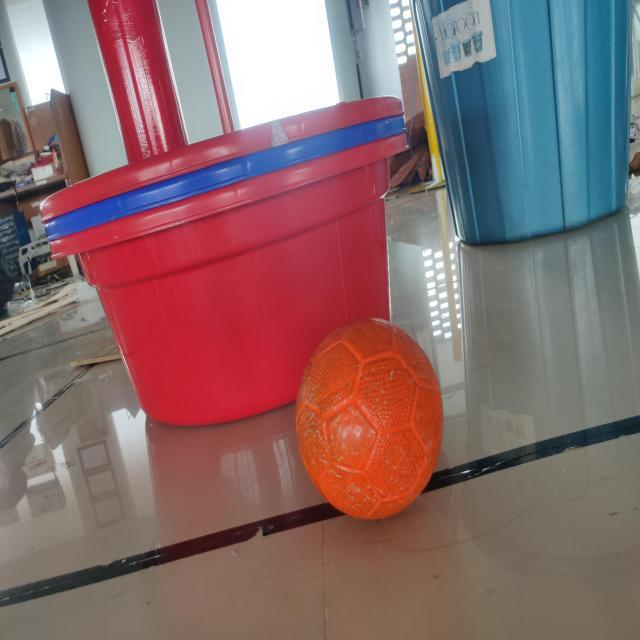bola: (289, 311, 449, 526)
